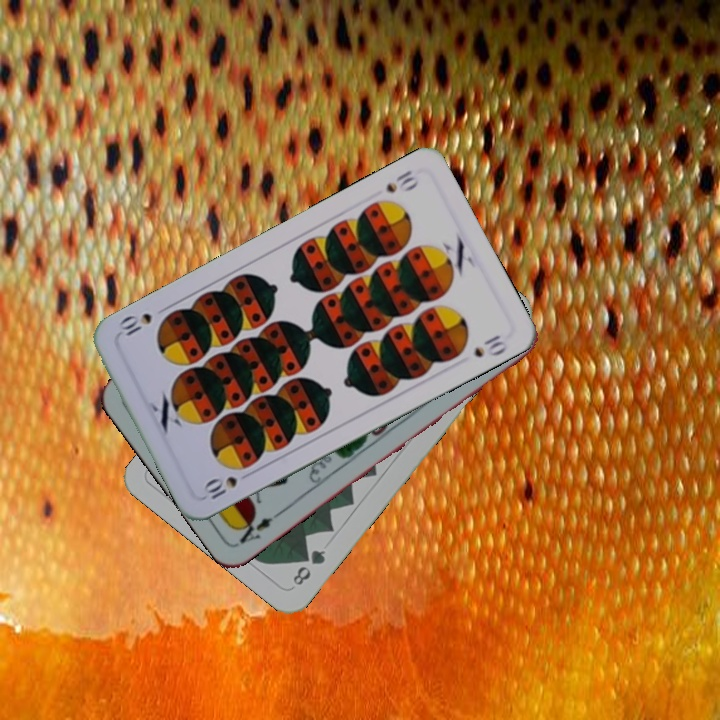EA: (232, 507, 285, 546)
G8: (288, 545, 329, 588)
S10: (199, 472, 241, 502), (381, 166, 422, 196)
